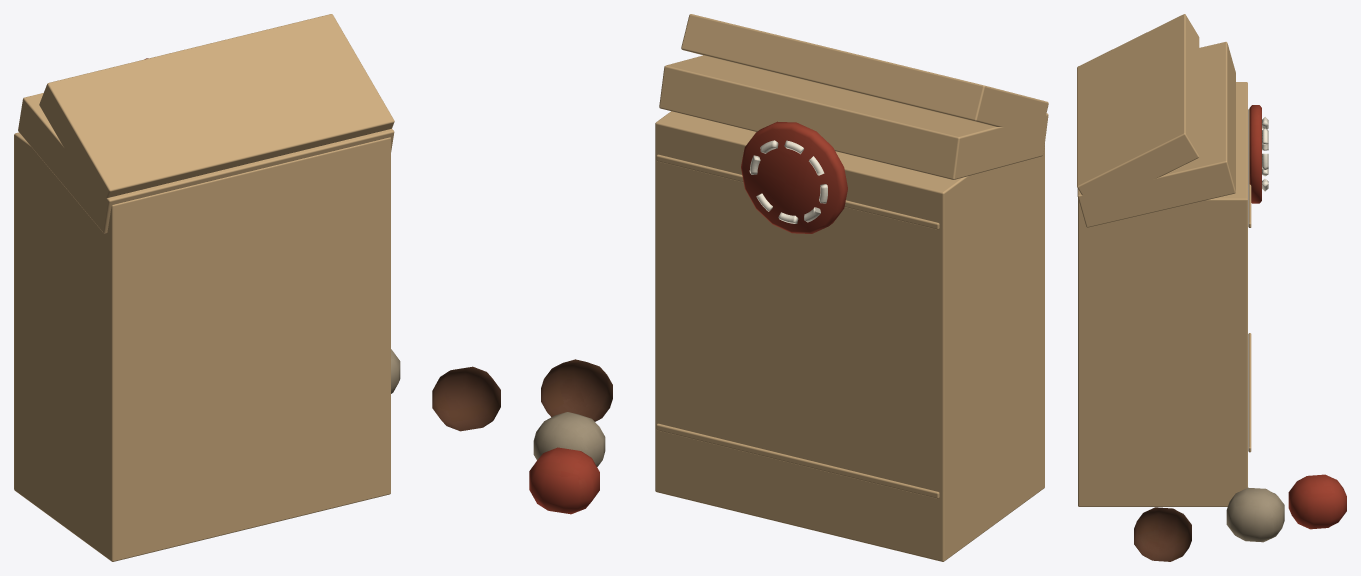
File: pellet_bag.glb
3 views of the same model, side by side, from view 1: azimuth 30°, elevation 25°; view 2: azimuth 150°, elevation 25°; view 3: azimuth 270°, elevation 25° (orthographic). The views are drawn at different scales.
Visible parts, largest first — view 1: pellet_bag_paper_kraft, pellet_bag_felt_brown; view 2: pellet_bag_paper_kraft, pellet_bag_felt_red, pellet_bag_felt_brown, pellet_bag_felt_beige, pellet_bag_thread; view 3: pellet_bag_paper_kraft, pellet_bag_felt_red, pellet_bag_felt_beige, pellet_bag_felt_brown, pellet_bag_thread.
Boxes of the visible parts, x1,y1,x2,y2 form: pellet_bag_paper_kraft: [14, 14, 394, 561]; pellet_bag_felt_brown: [432, 366, 500, 431]; pellet_bag_paper_kraft: [655, 14, 1048, 561]; pellet_bag_felt_red: [529, 121, 847, 514]; pellet_bag_felt_brown: [541, 359, 612, 421]; pellet_bag_felt_beige: [533, 412, 605, 466]; pellet_bag_thread: [749, 140, 827, 223]; pellet_bag_paper_kraft: [1077, 14, 1251, 506]; pellet_bag_felt_red: [1249, 105, 1346, 529]; pellet_bag_felt_beige: [1226, 487, 1284, 542]; pellet_bag_felt_brown: [1134, 507, 1191, 561]; pellet_bag_thread: [1262, 117, 1268, 191].
Size of the model in its own units: 0.2808 by 0.2676 by 0.1744.
Materials: 5 (3 with a texture image).
